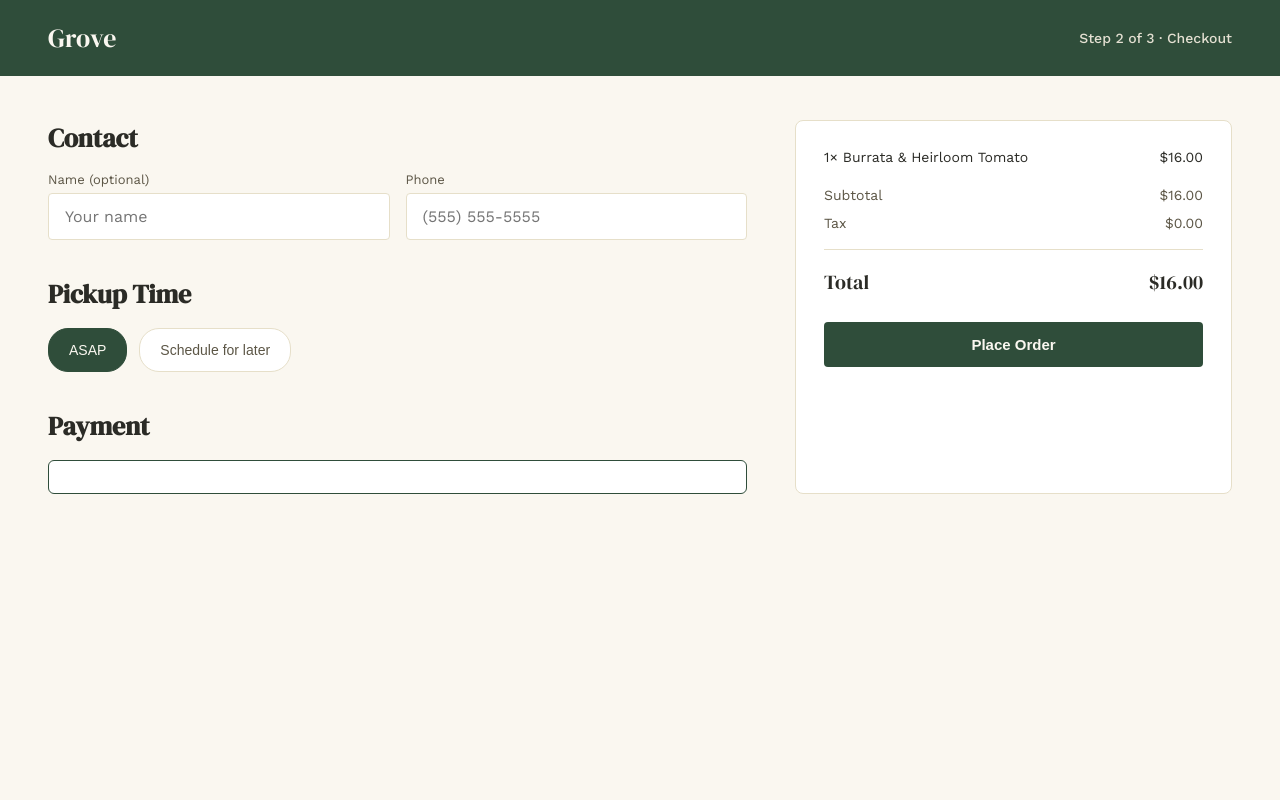
Test: CheckoutView — rewards › updates the order summary discount and total when an available reward is selected
This screenshot has width=1280, height=800.
Step 1. Type "+15551234567" into the field labelled "Phone" → [576, 216], box [406,193,747,240]
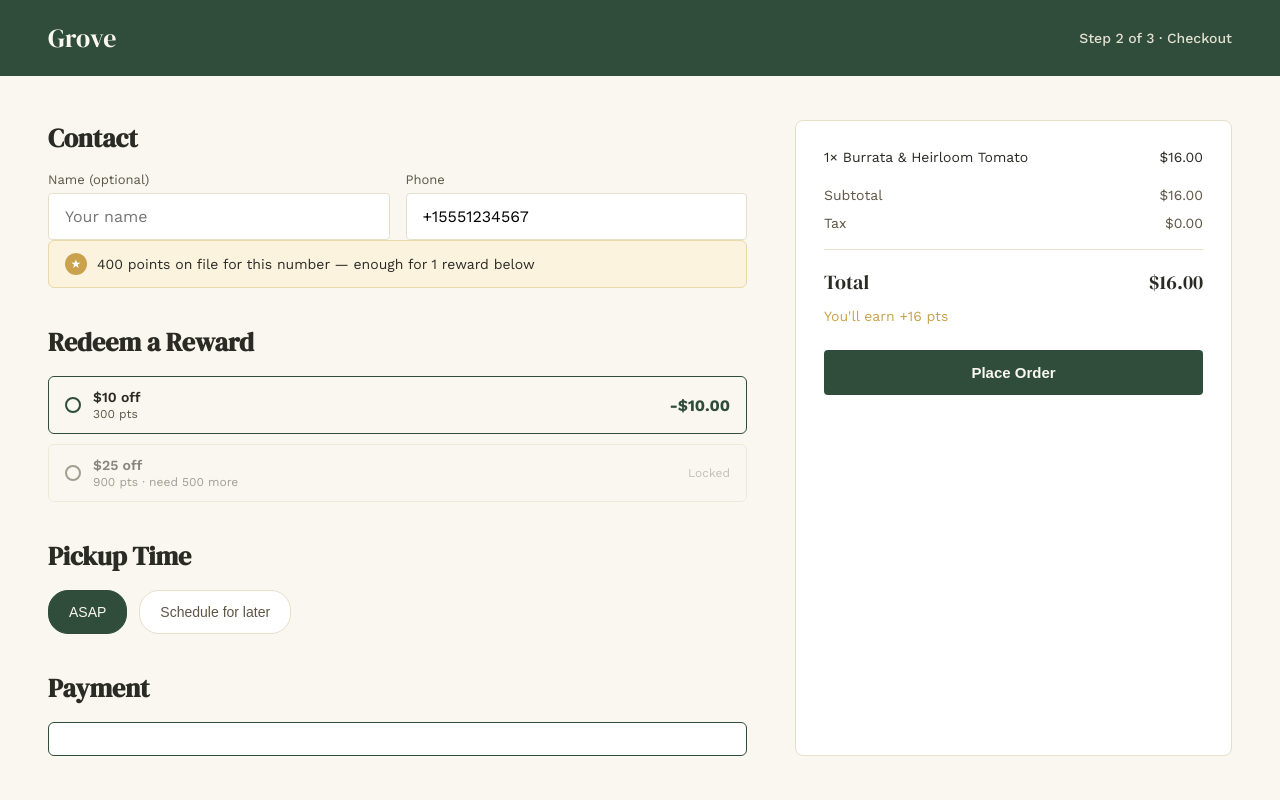
Step 2. Click the list item with class "reward-row" showing "$10 off 300 pts -$10.00" → [398, 405], box [48,376,747,434]
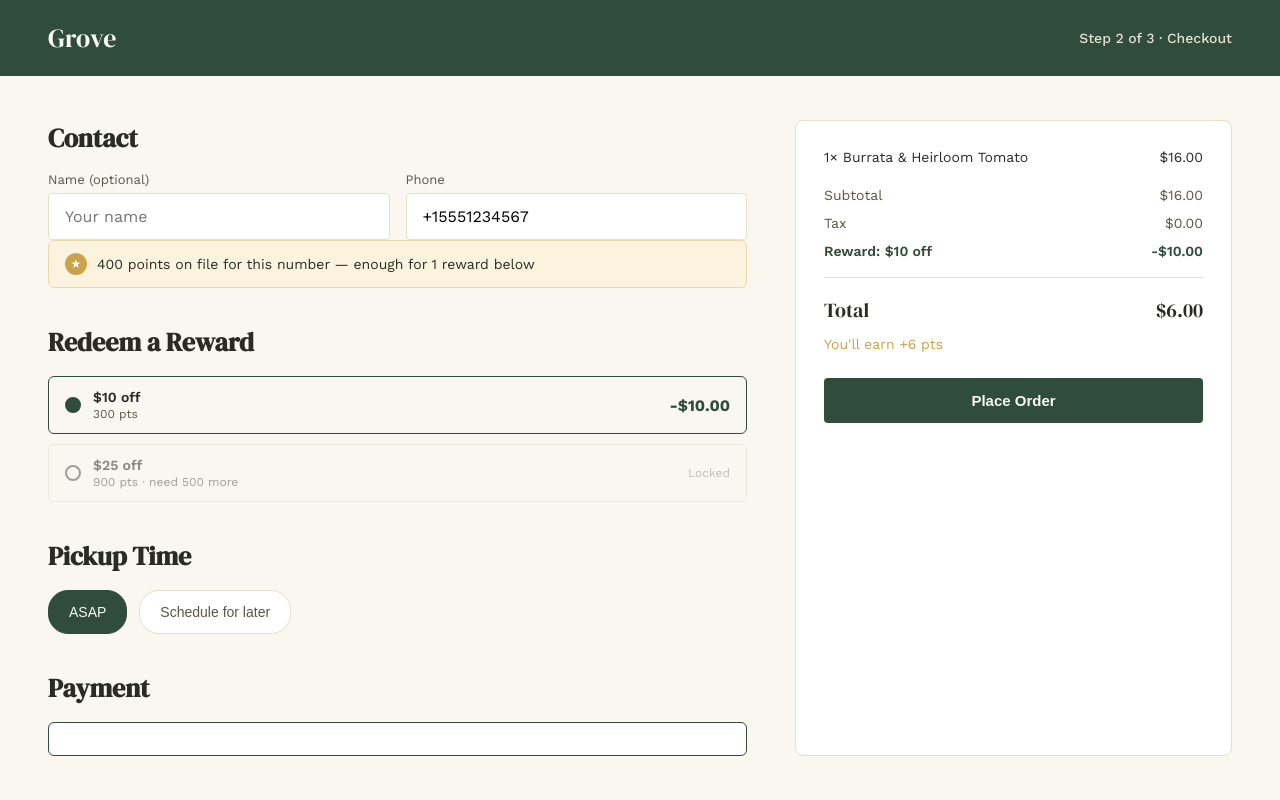
Check: the text "Reward: $10 off" is shown, box [824,243,932,259]
Check: the element with class "total" shows "$6.00", box [1156,296,1203,324]
